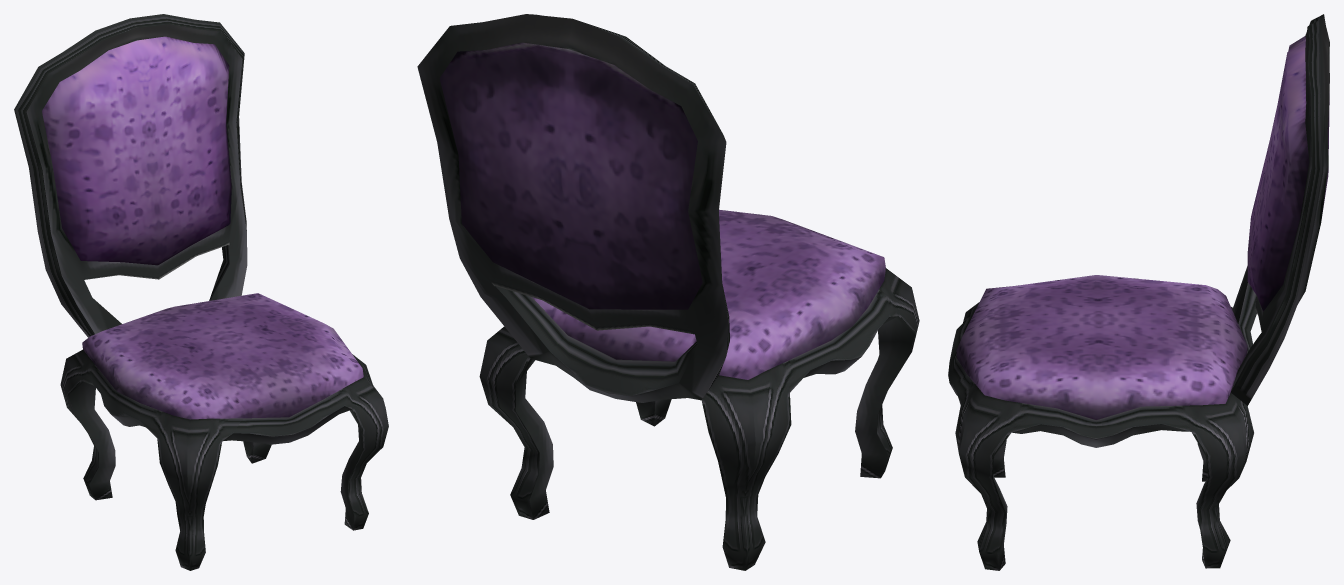
The model's file is BaroqueChair_HD.fbx.
The picture shows the model from 3 angles, left to right: view 1: azimuth 30°, elevation 25°; view 2: azimuth 150°, elevation 25°; view 3: azimuth 270°, elevation 25°; orthographic projection. The views are drawn at different scales.
Visible parts, largest first — view 1: BaroqueChair; view 2: BaroqueChair; view 3: BaroqueChair.
Boxes of the visible parts, box(x1,y1,x2,y2) form: BaroqueChair: box(14, 14, 388, 570); BaroqueChair: box(417, 14, 919, 570); BaroqueChair: box(948, 14, 1329, 570).
Size of the model in its own units: 0.5681 by 0.9806 by 0.6969.
